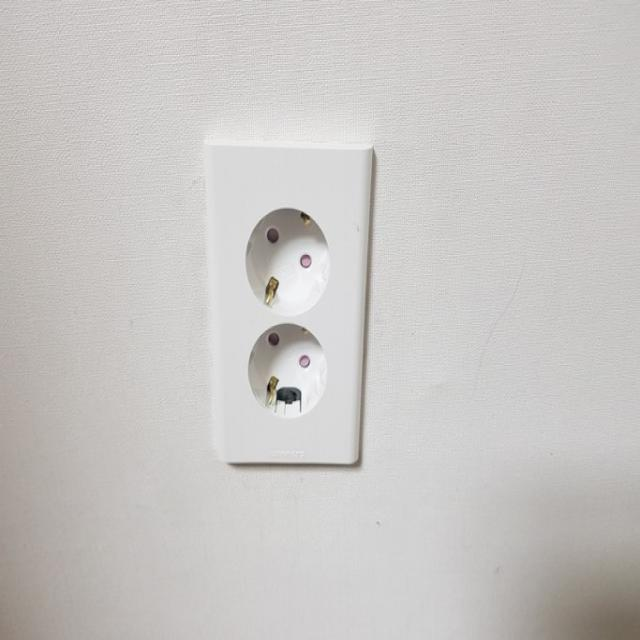typeb: (178, 98, 392, 509)
